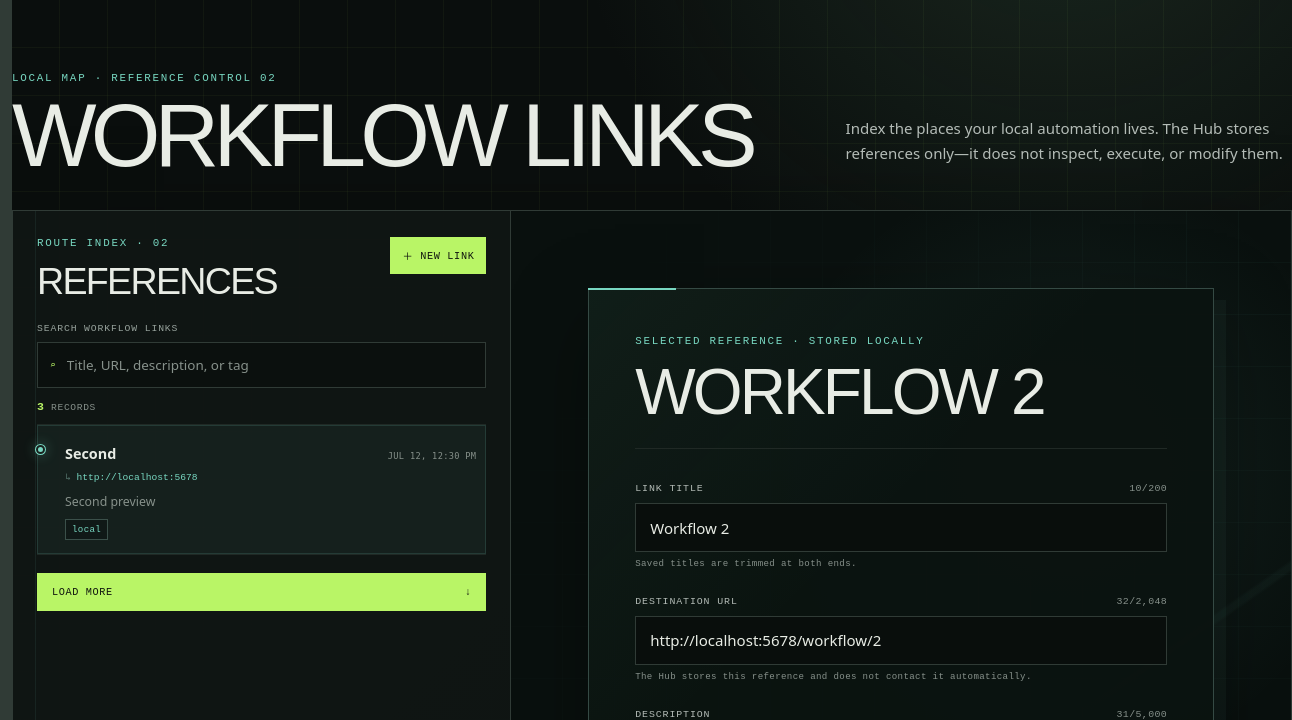
Test case: Workflow Links directory › loads more, deduplicates by ID, and keeps the server total
The width and height of the screenshot is (1292, 720).
Expected: the button "Second" is shown, [55,430,486,519]
Click the button with aria-label "Load more workflow links": (82, 592) [37,573,486,611]
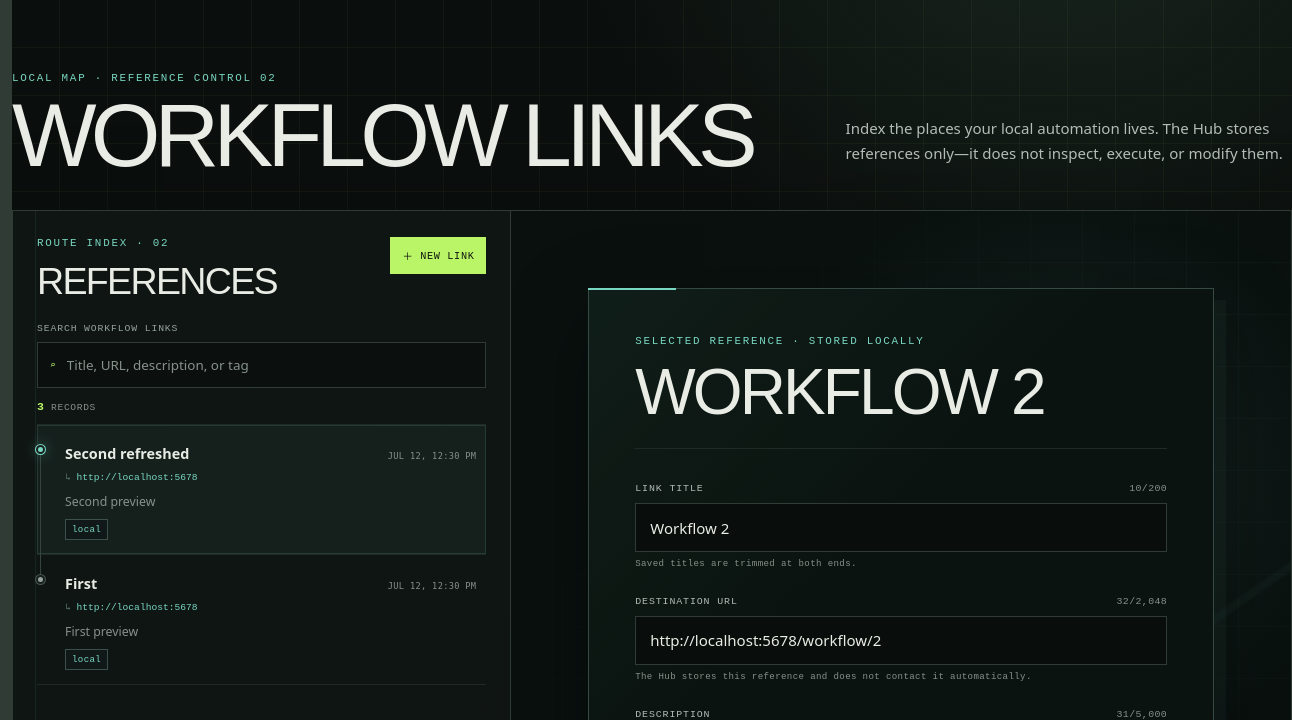
Expected: the text "3" is shown, [37,400,45,413]
Expected: the button "Second refreshed" is shown, [55,430,486,519]
Expected: the button "First Jul 12, 12:30 PM ↳ http://localhost:5678 First preview" is shown, [55,560,486,649]
